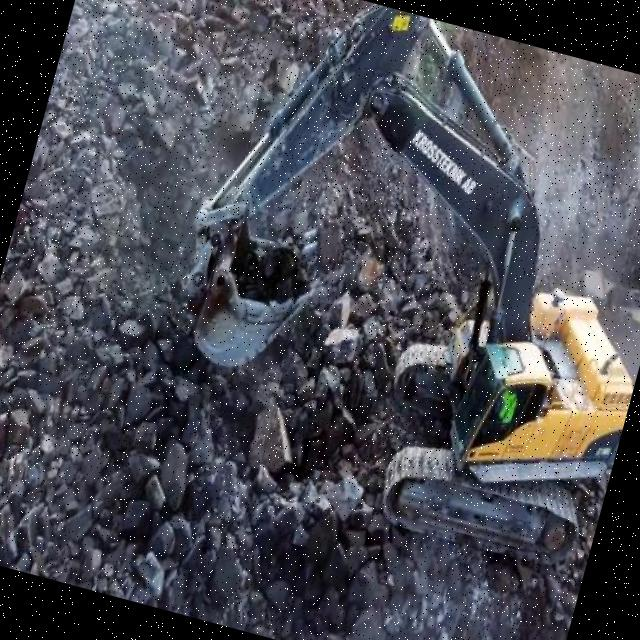Excavator: (120, 0, 640, 598)
